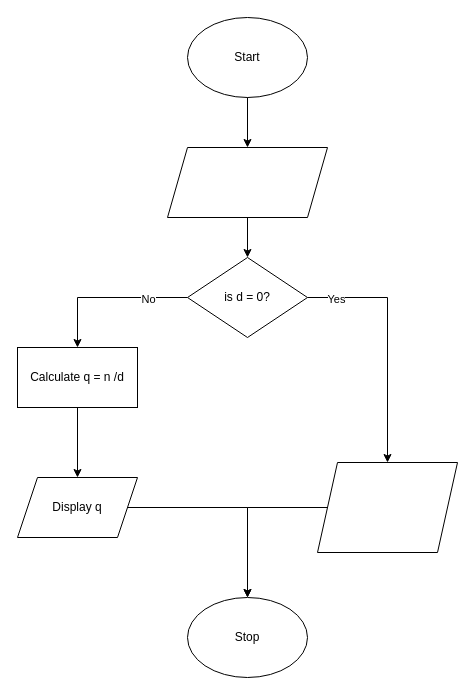
This 475x695 diagram has some shape labels left out. The shapes that lost their labels are listed below. From the top down, each one's box as (x1, y1, x2, y2) in pixels, then its label:
(166, 146, 328, 218): Take numerator and denominator d from user
(316, 462, 458, 552): Display" Denominator can not be Zero"
